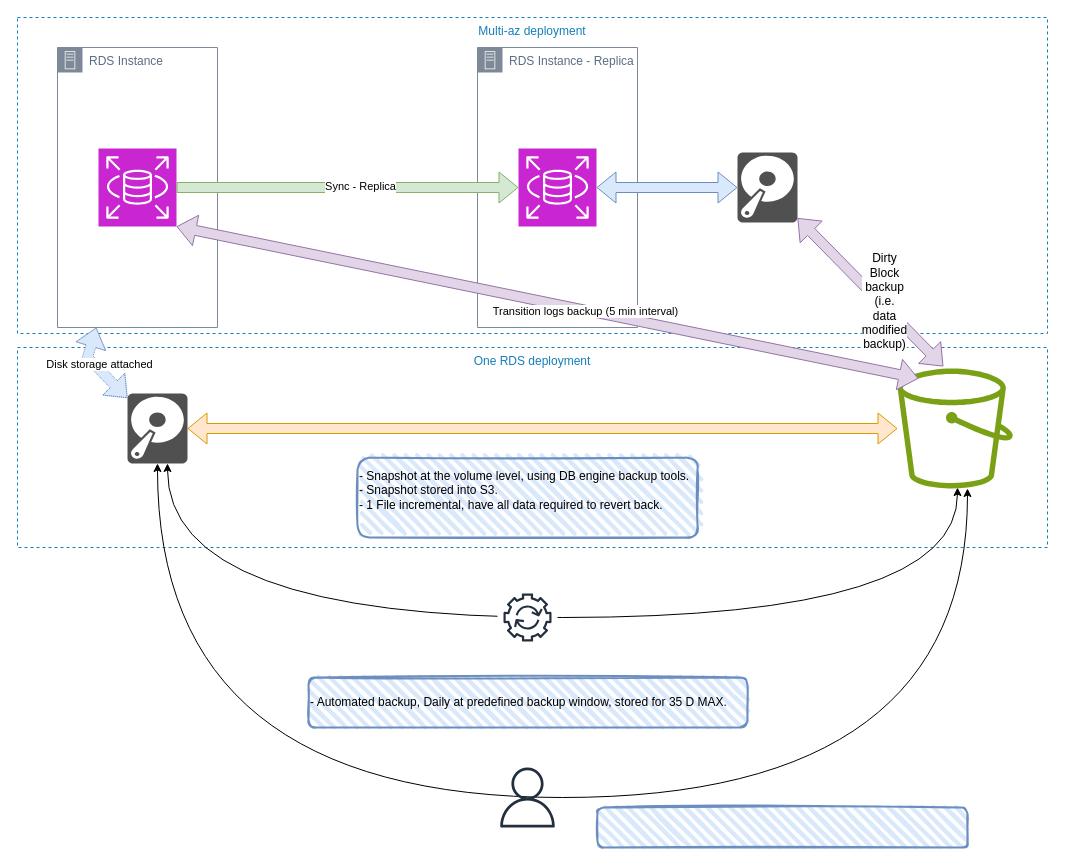
The diagram is 1065 pixels wide and 866 high, and some of its shapes have lost their labels. Here are the shapes that lost their labels. From the top down, the centre of each, then its label:
point (527, 617): Automation
point (527, 797): Manual
point (782, 827): - Manual action, any time, stored at the S3, without deletion period.
